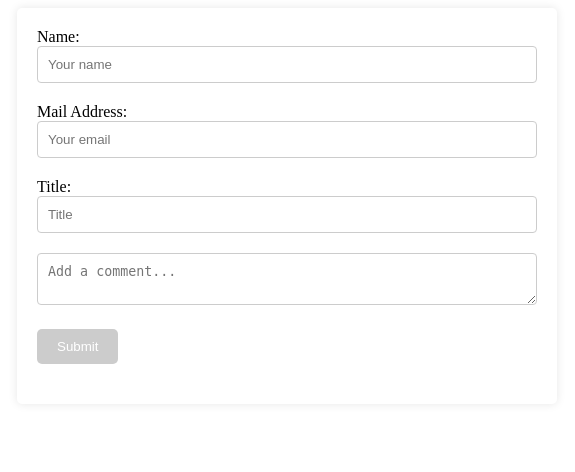
draft survives moderated until persistence
Type "Reader" into the field labelled "Name:" at [287, 64], box 37,46 -> 537,83
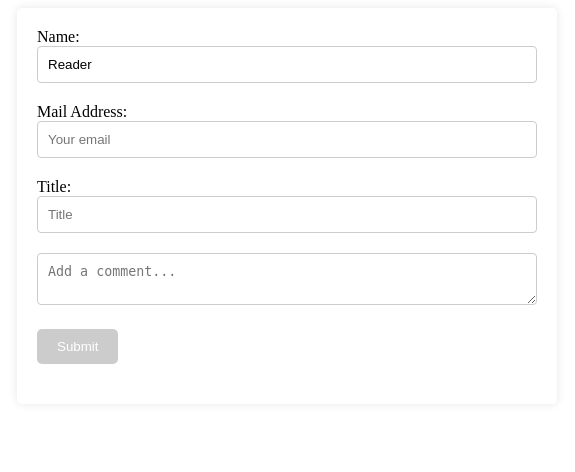
Type "Keep this draft" into the text box with placeholder "Add a comment..." at [287, 279], box 37,253 -> 537,305
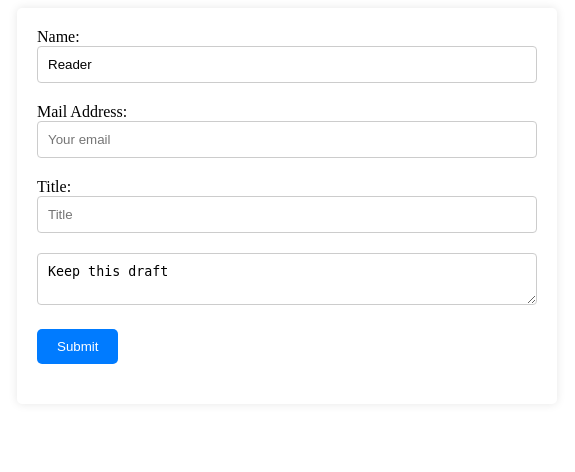
Click the button "Submit" at [78, 346], box 37,329 -> 118,364
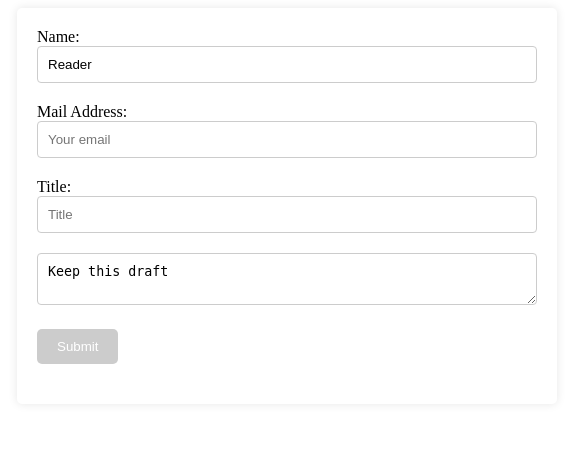
Expected: the button "Submit" is disabled
Click the button "Submit" at [78, 346], box 37,329 -> 118,364
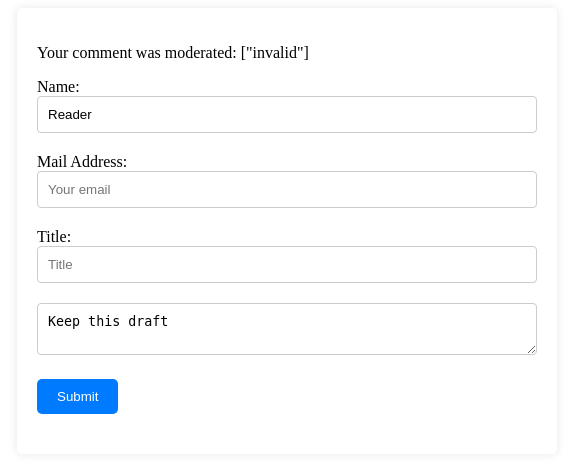
Expected: the message "Your comment was moderated: [\"invalid\"]" is shown, 37,44 -> 309,61
